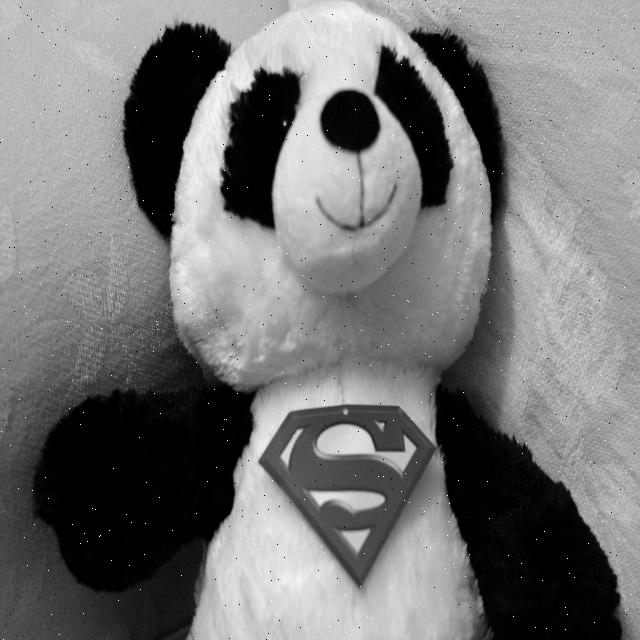panda: (24, 0, 622, 639)
